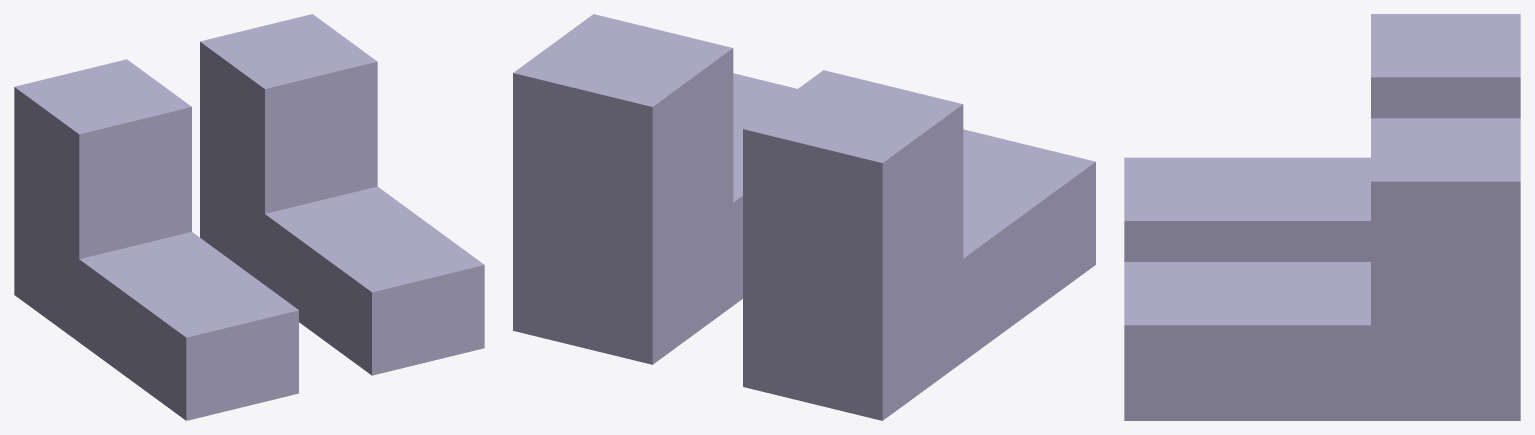
File: bottes_reparees.glb
3 views of the same model, side by side, from view 1: azimuth 30°, elevation 25°; view 2: azimuth 150°, elevation 25°; view 3: azimuth 270°, elevation 25° (orthographic). The views are drawn at different scales.
Parts seen in each view (by area): view 1: caoutchouc; view 2: caoutchouc; view 3: caoutchouc.
Boxes of the visible parts, x1,y1,x2,y2 form: caoutchouc: (14,14,484,420); caoutchouc: (513,14,1095,420); caoutchouc: (1124,14,1520,420).
Size of the model in its own units: 0.45 by 0.3 by 0.45.
